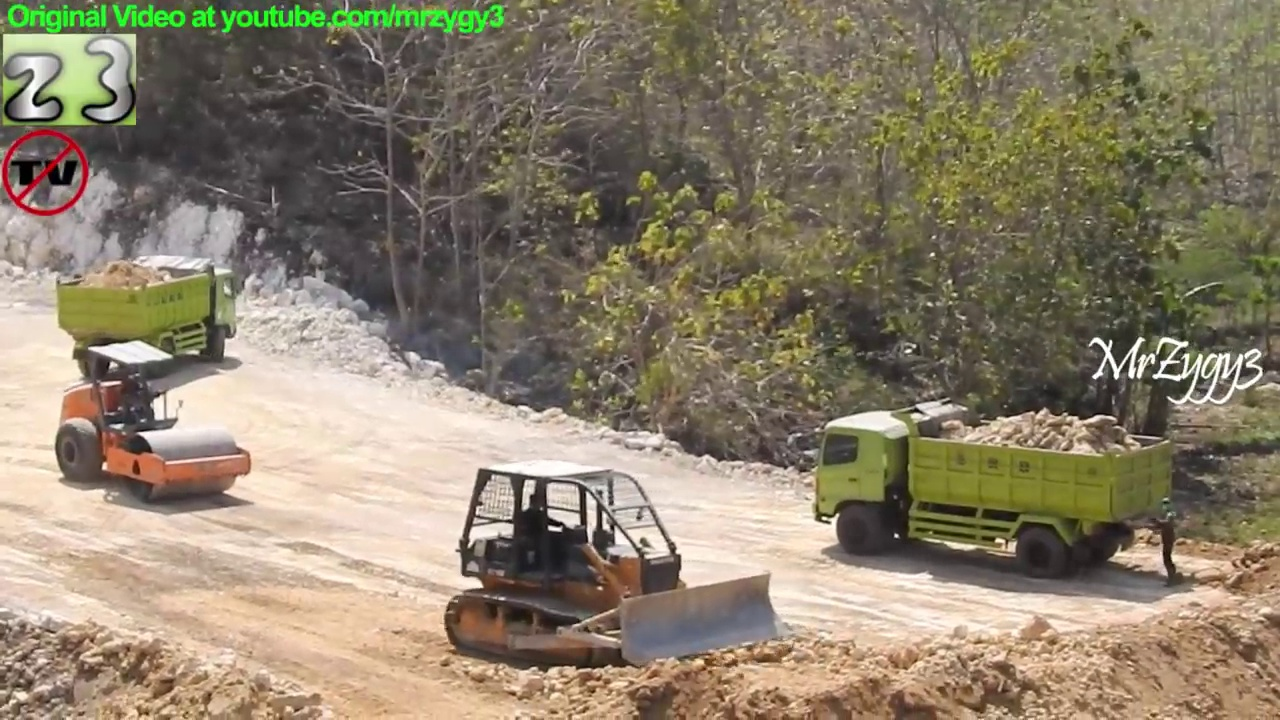bulldozer: (441, 458, 796, 672)
compactor: (51, 336, 257, 507)
truck: (800, 395, 1181, 582), (55, 250, 241, 381)
